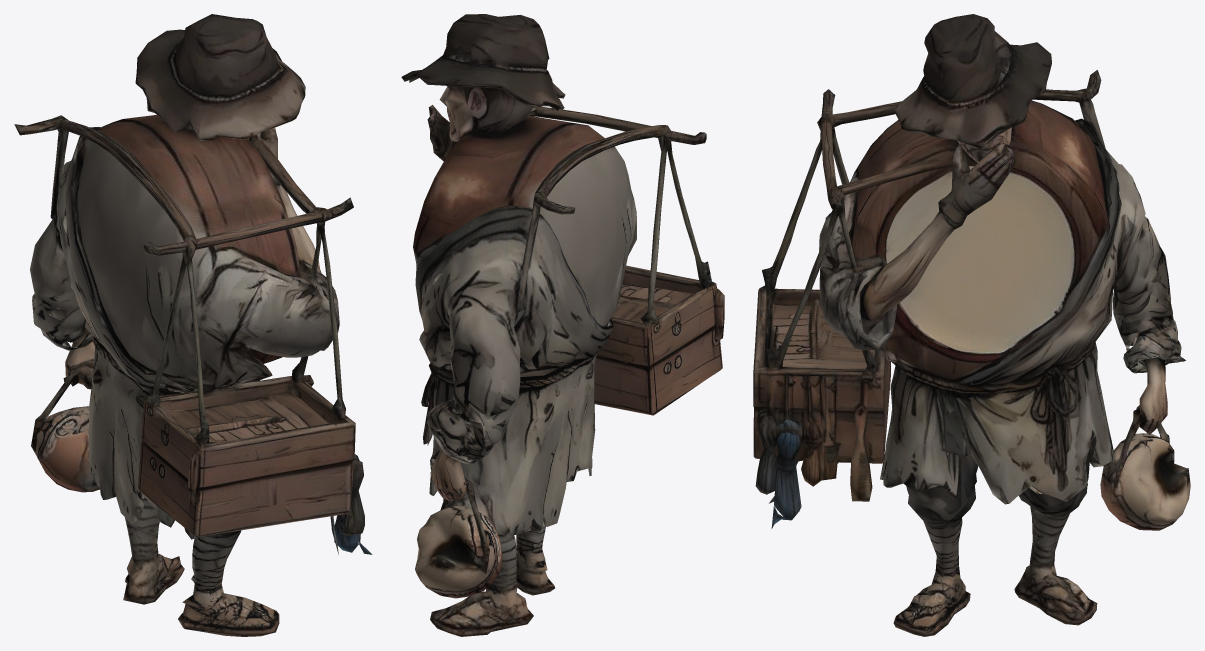
The model's file is p_b1p_huolang.glb.
3 renders of one model, left to right at view 1: azimuth 30°, elevation 25°; view 2: azimuth 150°, elevation 25°; view 3: azimuth 270°, elevation 25°, orthographic. The views are drawn at different scales.
Parts seen in each view (by area): view 1: tripo_node_a8bc315b-b390-4f17-9e69-77887cb8adcd; view 2: tripo_node_a8bc315b-b390-4f17-9e69-77887cb8adcd; view 3: tripo_node_a8bc315b-b390-4f17-9e69-77887cb8adcd.
Boxes of the visible parts, x1,y1,x2,y2 form: tripo_node_a8bc315b-b390-4f17-9e69-77887cb8adcd: [14, 14, 372, 636]; tripo_node_a8bc315b-b390-4f17-9e69-77887cb8adcd: [401, 14, 724, 636]; tripo_node_a8bc315b-b390-4f17-9e69-77887cb8adcd: [753, 14, 1190, 636].
Bounding box in the file's own units: 0.4084 × 1 × 0.6608.
Materials: 1 (1 with a texture image).
